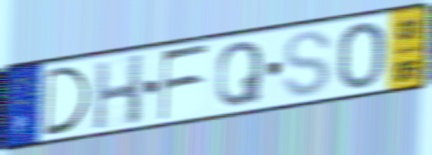D: (43, 64, 94, 139)
F: (158, 41, 211, 123)
H: (92, 51, 146, 132)
O: (336, 19, 387, 92)
Q: (214, 39, 266, 110)
S: (281, 28, 334, 100)
